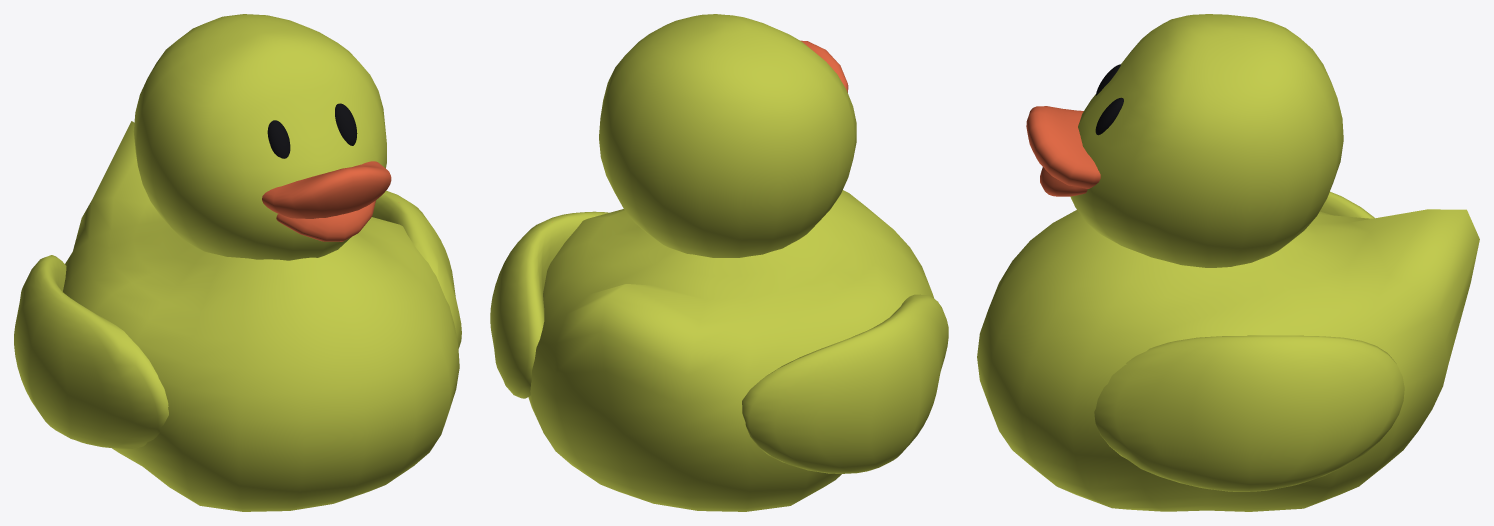
Rendered from duck2.gltf.
3 renders of one model, left to right at view 1: azimuth 30°, elevation 25°; view 2: azimuth 150°, elevation 25°; view 3: azimuth 270°, elevation 25°, orthographic. The views are drawn at different scales.
Parts seen in each view (by area): view 1: Duck_Normal_Combined; view 2: Duck_Normal_Combined; view 3: Duck_Normal_Combined.
Boxes of the visible parts, x1=… form: Duck_Normal_Combined: x1=14, y1=14, x2=461, y2=511; Duck_Normal_Combined: x1=490, y1=14, x2=948, y2=511; Duck_Normal_Combined: x1=977, y1=14, x2=1479, y2=511.
Size of the model in its own units: 0.0598 by 0.0604 by 0.0612.
1 material, 1 textured.
